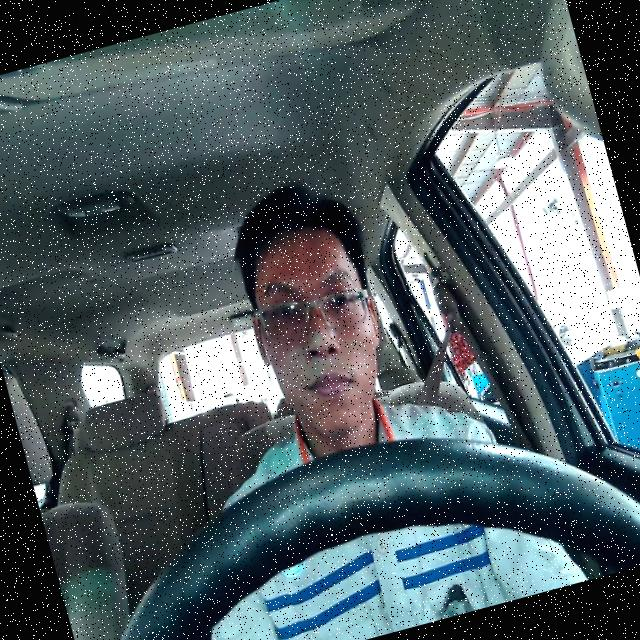focused: (228, 214, 406, 450)
